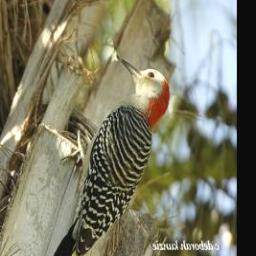Woodpecker: (43, 57, 175, 256)
